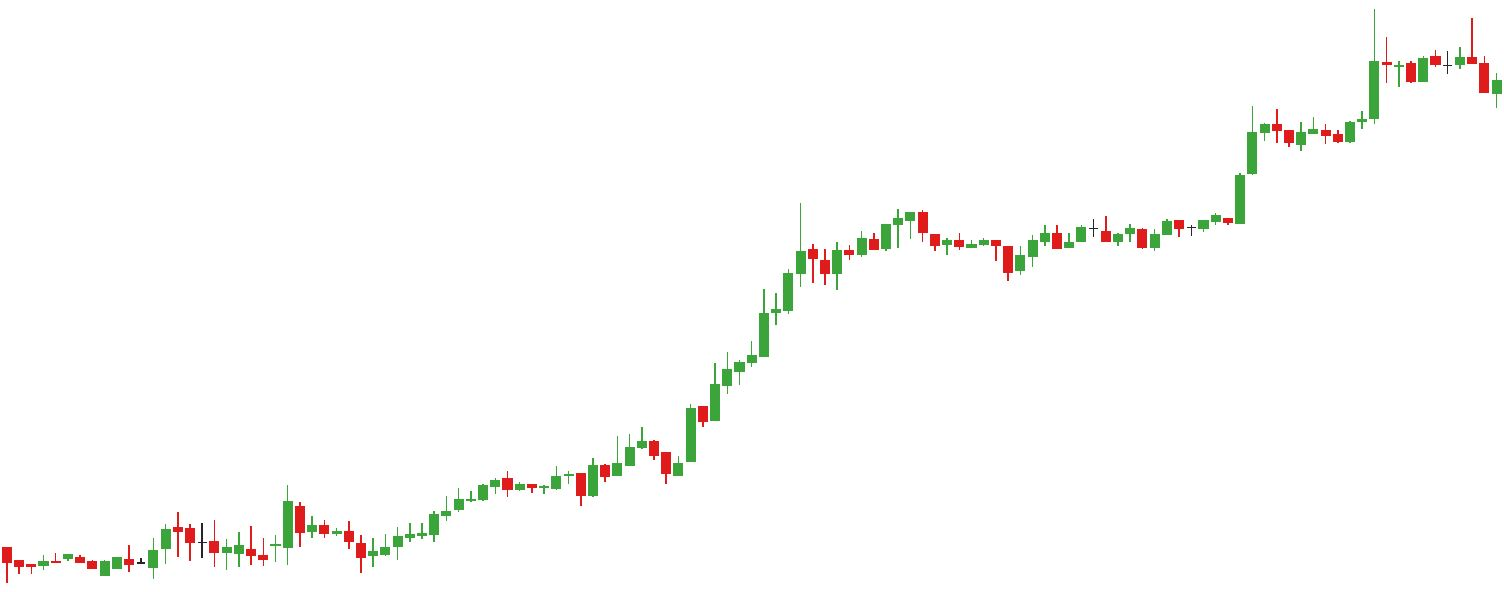buy: (279, 494, 379, 579)
